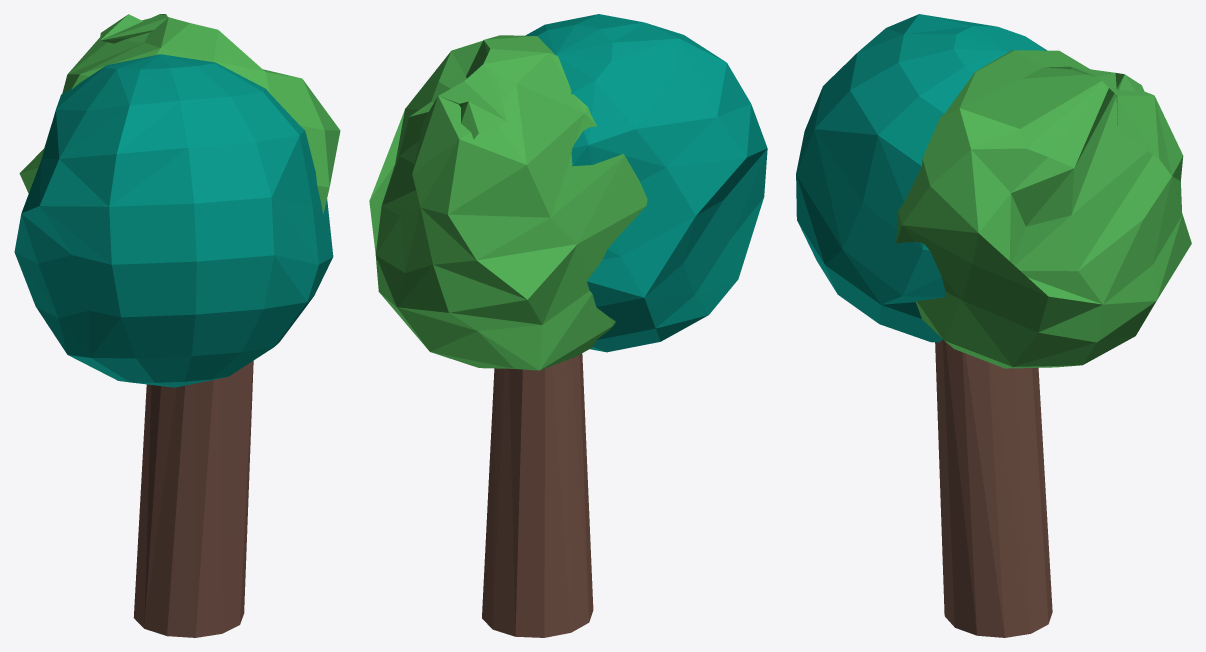
3 renders of one model, left to right at view 1: azimuth 30°, elevation 25°; view 2: azimuth 150°, elevation 25°; view 3: azimuth 270°, elevation 25°, orthographic. The views are drawn at different scales.
Parts seen in each view (by area): view 1: mesh_1833805991, mesh_969554707, mesh_1990299120; view 2: mesh_1990299120, mesh_1833805991, mesh_969554707; view 3: mesh_1990299120, mesh_1833805991, mesh_969554707.
Part boxes in pixels (x1,y1,x2,y2): mesh_1833805991: (14, 54, 333, 387); mesh_969554707: (133, 361, 253, 637); mesh_1990299120: (19, 14, 340, 214); mesh_1990299120: (369, 35, 647, 370); mesh_1833805991: (525, 14, 767, 352); mesh_969554707: (482, 353, 593, 637); mesh_1990299120: (896, 50, 1191, 368); mesh_1833805991: (796, 14, 1046, 342); mesh_969554707: (935, 340, 1052, 637).
Bounding box in the file's own units: 249 × 427 × 273.
